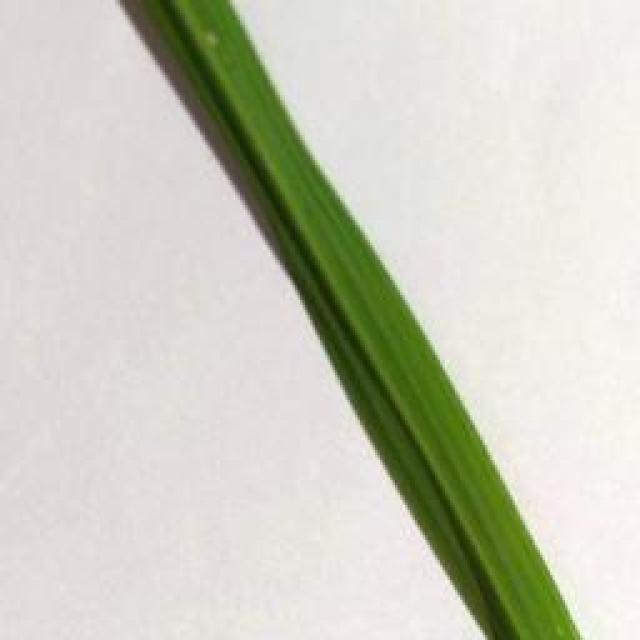Healthy-Plant: (182, 48, 460, 449)
